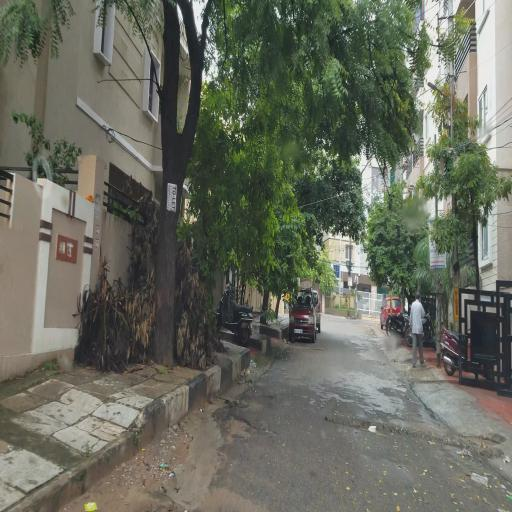street_light_0: (422, 75, 452, 104)
